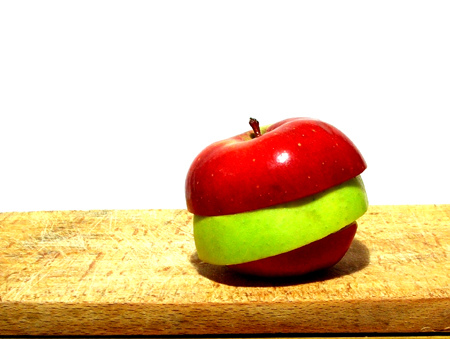apple: (183, 114, 364, 213), (191, 176, 373, 265)
